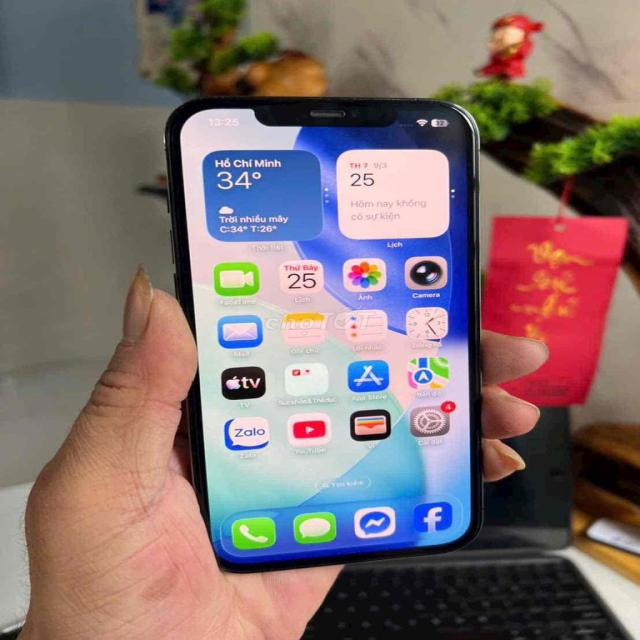gen_12_13: (156, 81, 486, 582)
